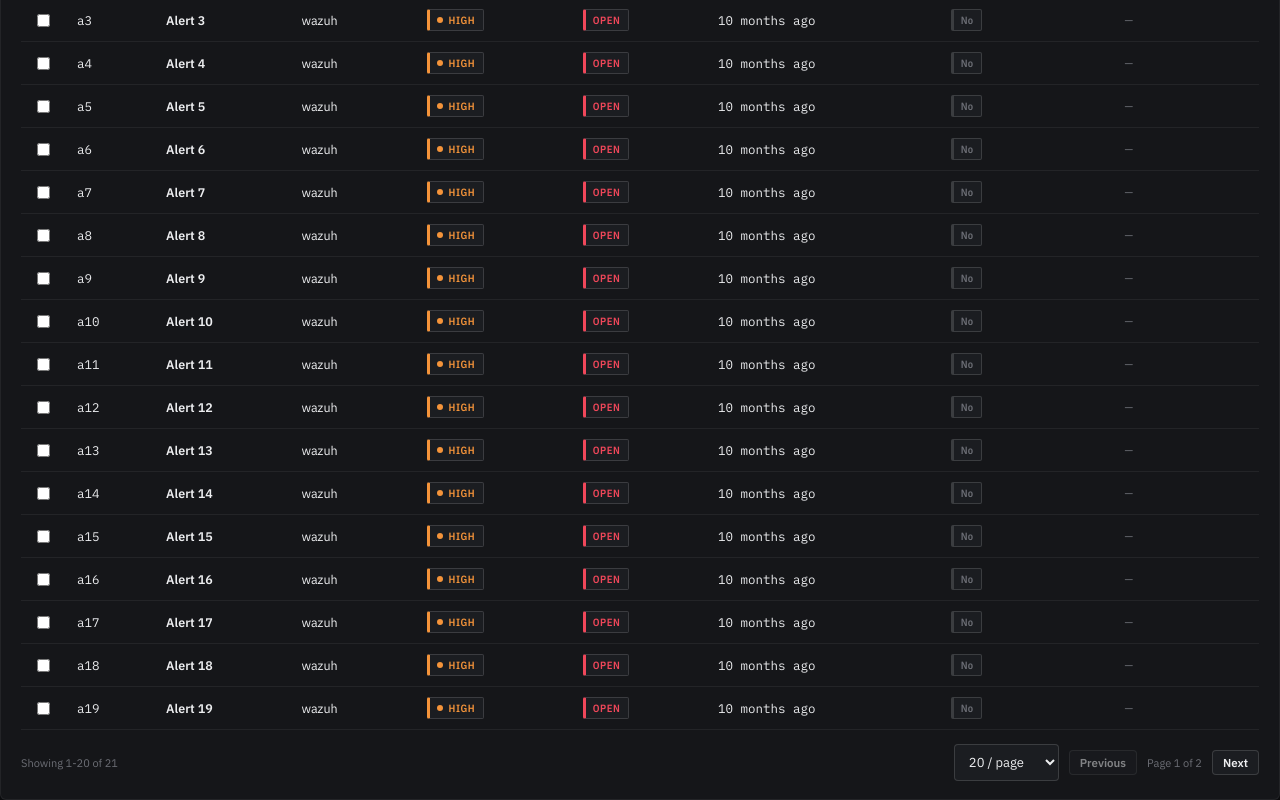
Scenario: AlertsListPage › shows pagination totals and fetches the next page (offset) on click
(page scrolled)
Expected: the text "Showing 1-20 of 21" is shown, [21,756,118,770]
Click the button "Next" at (1235, 762), box [1212,750,1259,775]
(page scrolled)
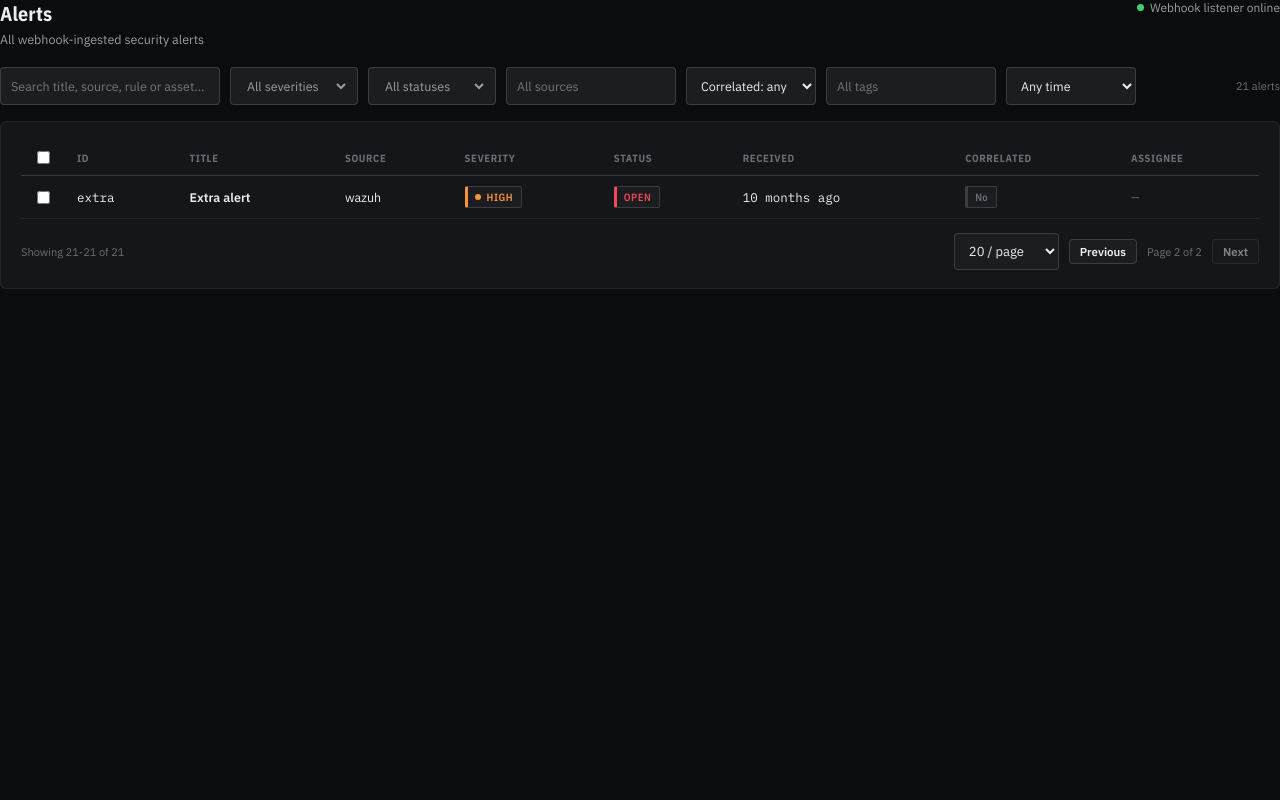
Now the text "Extra alert" is shown, box [178,176,333,218]
